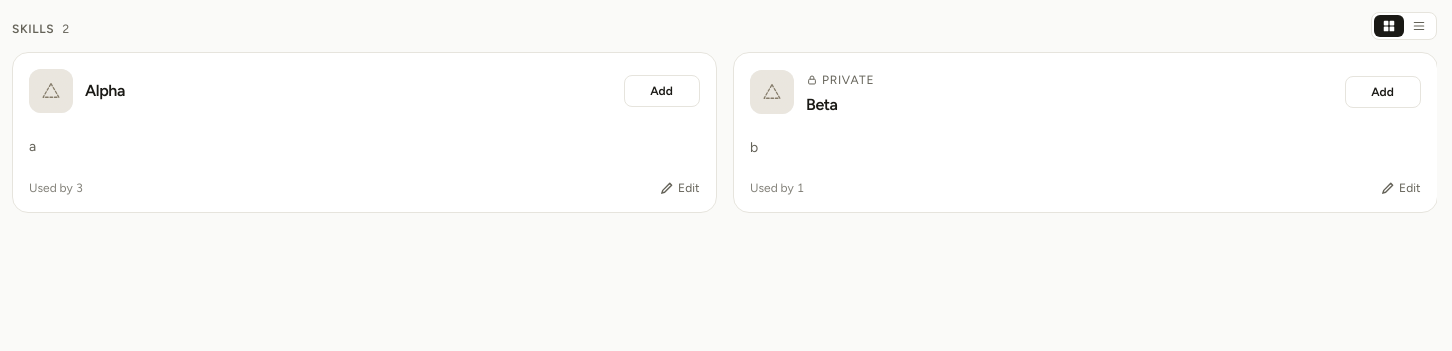
Test: ProfileSkillsManager: unpublished (deprecated) group › card view hides deprecated skills; the All list shows them at the end
Expected: the text "Gamma" is not shown
What coordinates should you click on to do the following:
click the button named "list"
I would click on:
 (1419, 26)
Its box is [1404, 15, 1434, 37].
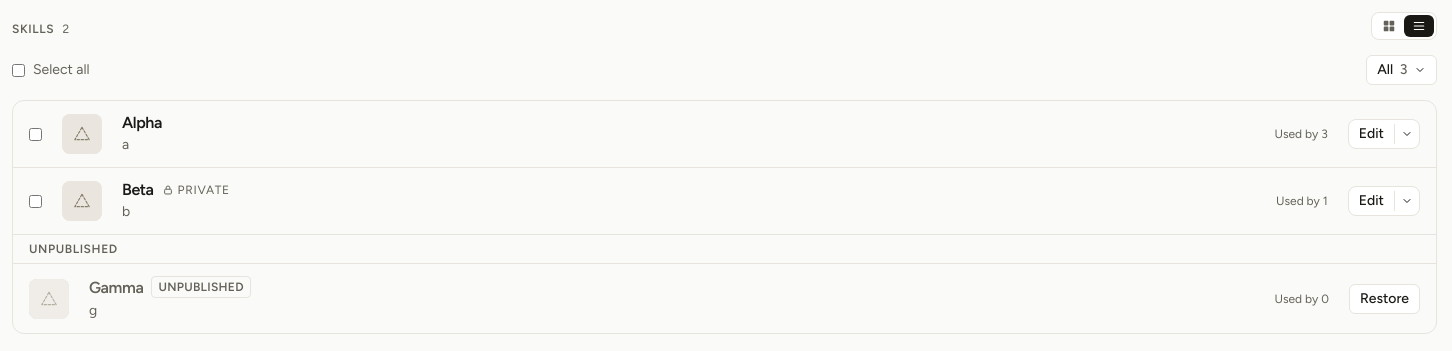
Expected: the link "Alpha" is shown, [122, 113, 162, 132]
Expected: the link "Gamma" is shown, [89, 278, 143, 297]
